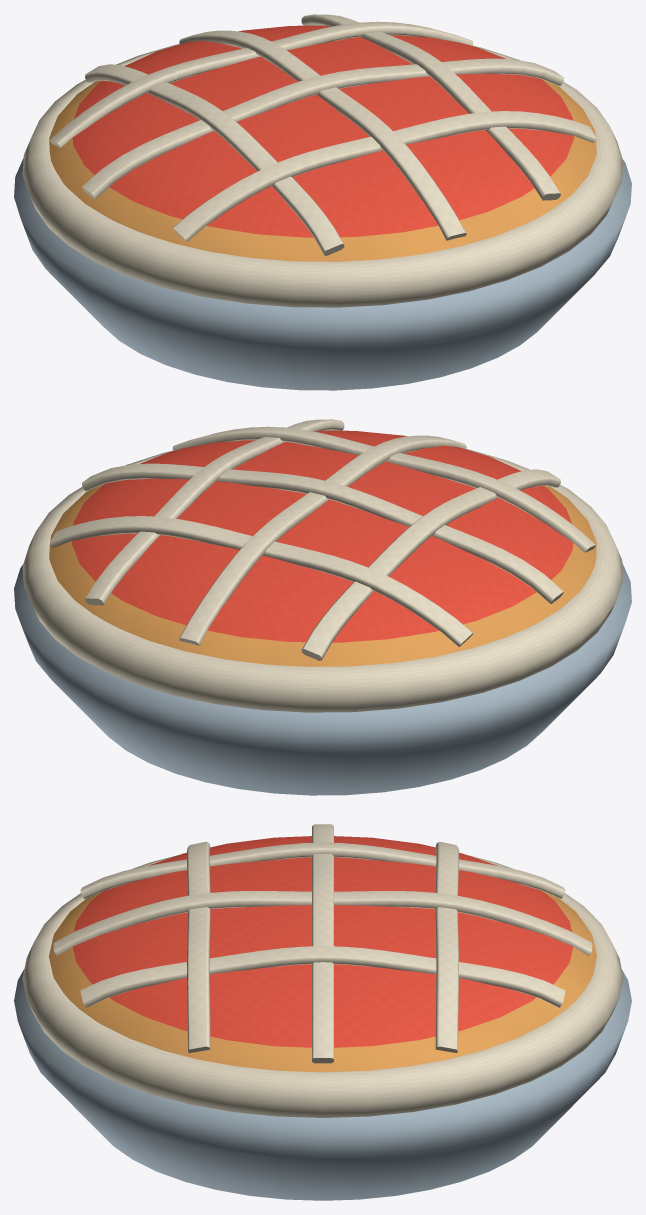
The model's file is PIE.glb.
3 renders of one model, top to bottom at view 1: azimuth 30°, elevation 25°; view 2: azimuth 150°, elevation 25°; view 3: azimuth 270°, elevation 25°, orthographic.
Parts seen in each view (by area): view 1: PIE; view 2: PIE; view 3: PIE.
Boxes of the visible parts, bbox=[...] form: PIE: bbox=[14, 14, 631, 390]; PIE: bbox=[14, 419, 631, 795]; PIE: bbox=[14, 824, 631, 1200].
Bounding box in the file's own units: 0.5 × 0.189 × 0.5.
4 materials, 3 textured.
